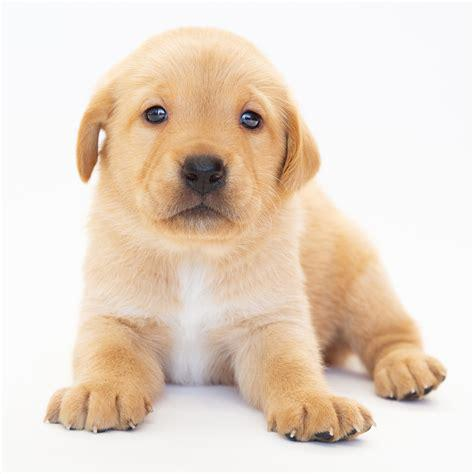dog: (47, 26, 444, 442)
